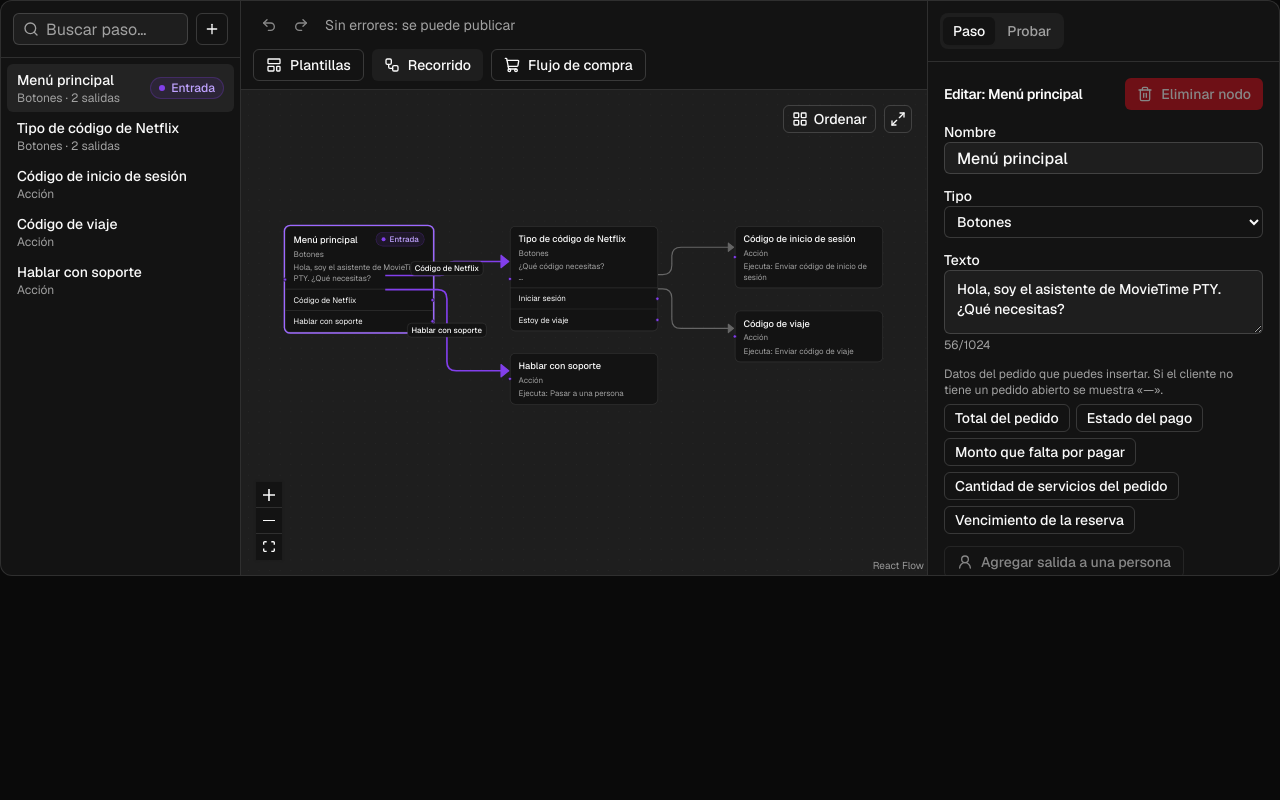
Test: datos del pedido en los textos › ofrece la lista cerrada solo con la bandera e inserta el marcador al final del texto
Step 1. Click the button with aria-label "Insertar Total del pedido" → point(1007, 418), box [944, 404, 1070, 432]
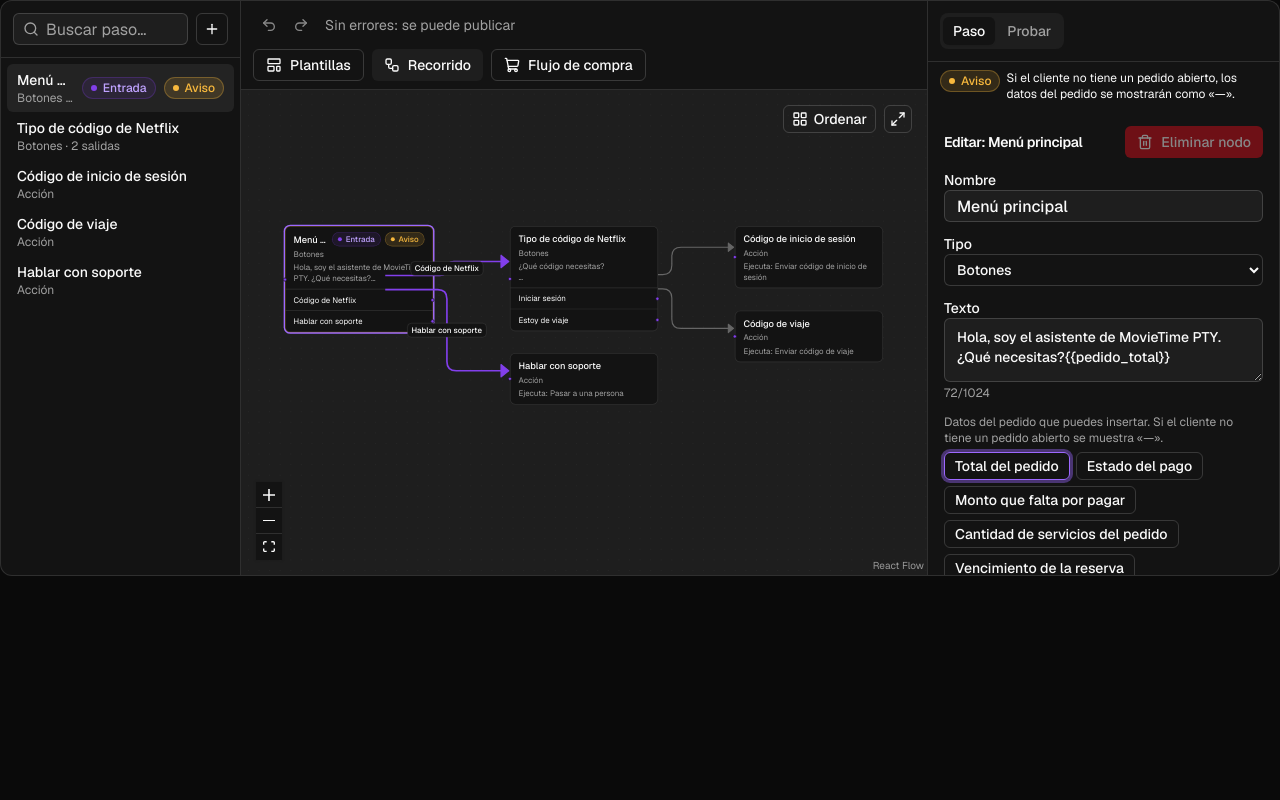
Now the text box labelled "Texto 72/1024" holds "Hola, soy el asistente de MovieTime PTY. ¿Qué necesitas?{{pedido_total}}", box [944, 318, 1263, 382]
